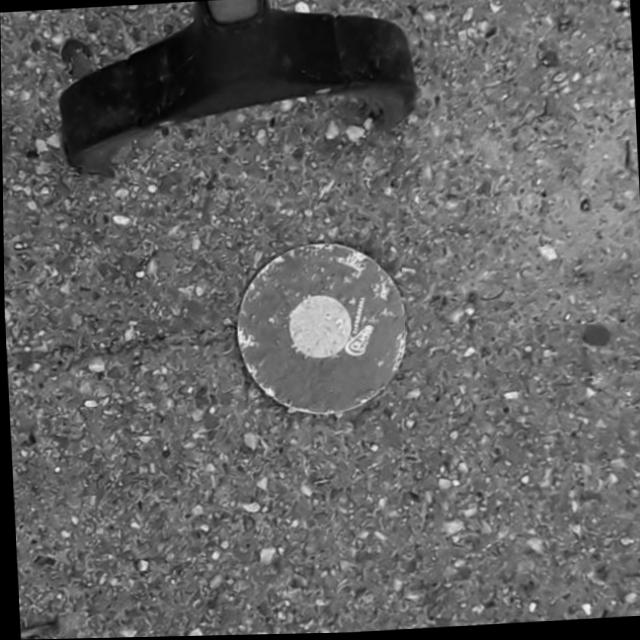Paper: (227, 235, 412, 423)
